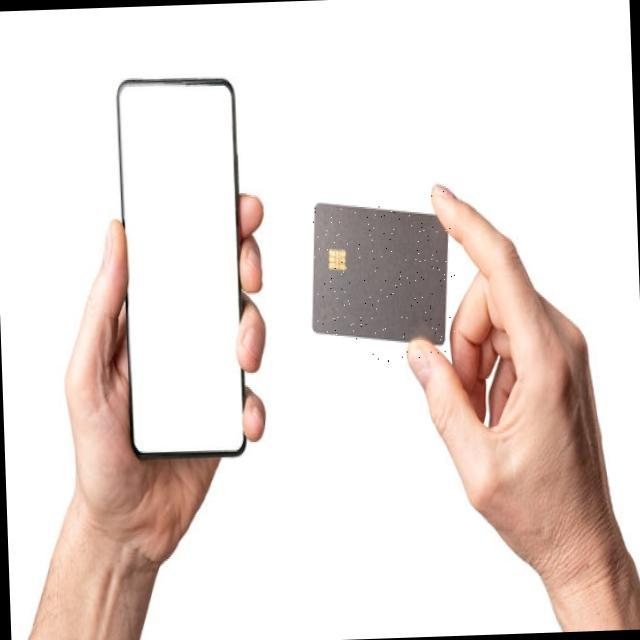payment_card: (311, 201, 449, 345)
